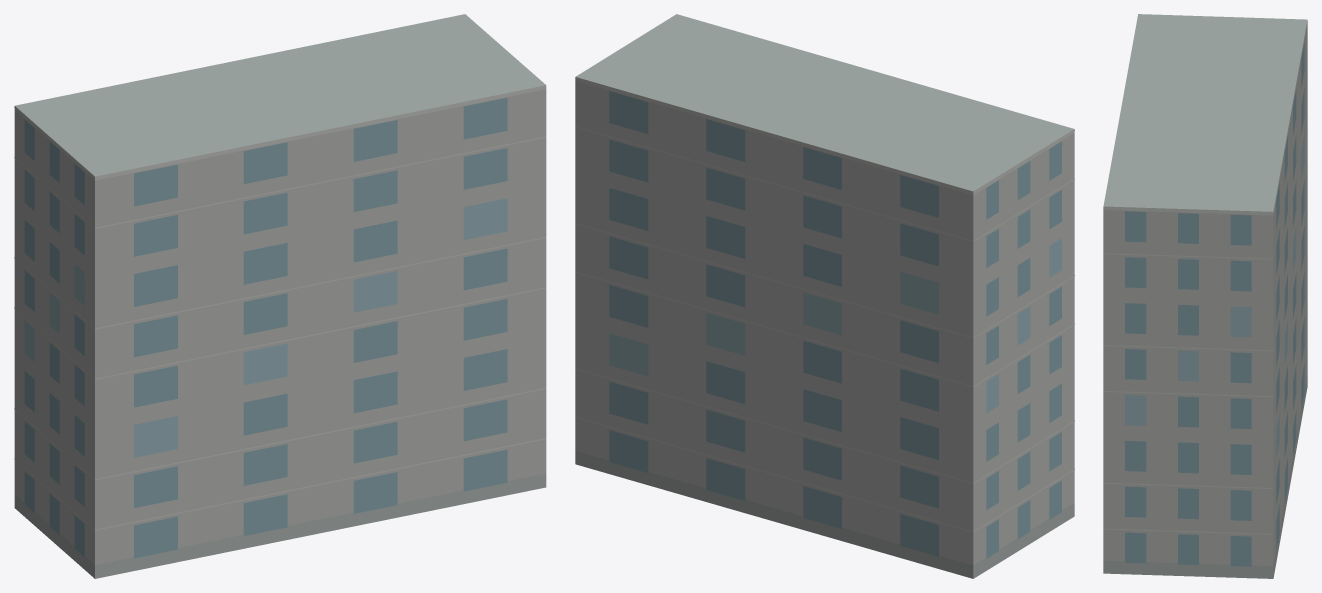
File: survey-upis-32751633.glb
The picture shows the model from 3 angles, left to right: view 1: azimuth 30°, elevation 25°; view 2: azimuth 150°, elevation 25°; view 3: azimuth 270°, elevation 25°; orthographic projection. The views are drawn at different scales.
Visible parts, largest first — view 1: survey-upis-32751633.tmp; view 2: survey-upis-32751633.tmp; view 3: survey-upis-32751633.tmp.
Boxes of the visible parts, <box> form: survey-upis-32751633.tmp: <box>14,14,546,578</box>; survey-upis-32751633.tmp: <box>575,14,1074,578</box>; survey-upis-32751633.tmp: <box>1103,14,1307,578</box>.
Size of the model in its own units: 28.23 by 24.4 by 12.32.
